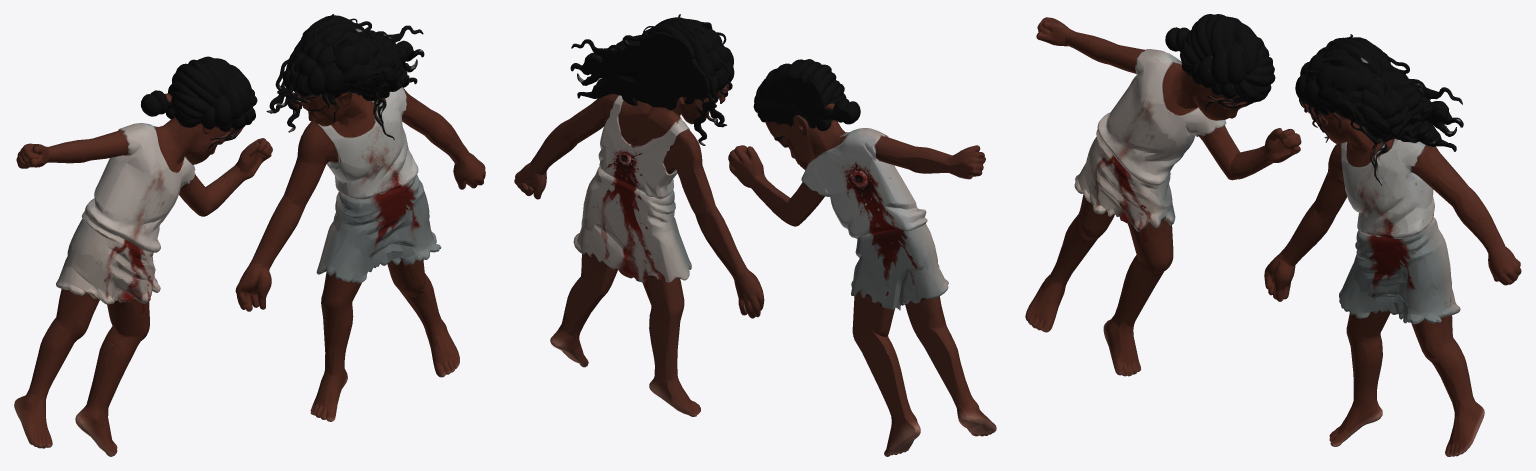
The model's file is sister.glb.
3 views of the same model, side by side, from view 1: azimuth 30°, elevation 25°; view 2: azimuth 150°, elevation 25°; view 3: azimuth 330°, elevation 25° (orthographic). The views are drawn at different scales.
Bounding box in the file's own units: 1.9 × 1.55 × 0.274.
Materials: 1 (1 with a texture image).
